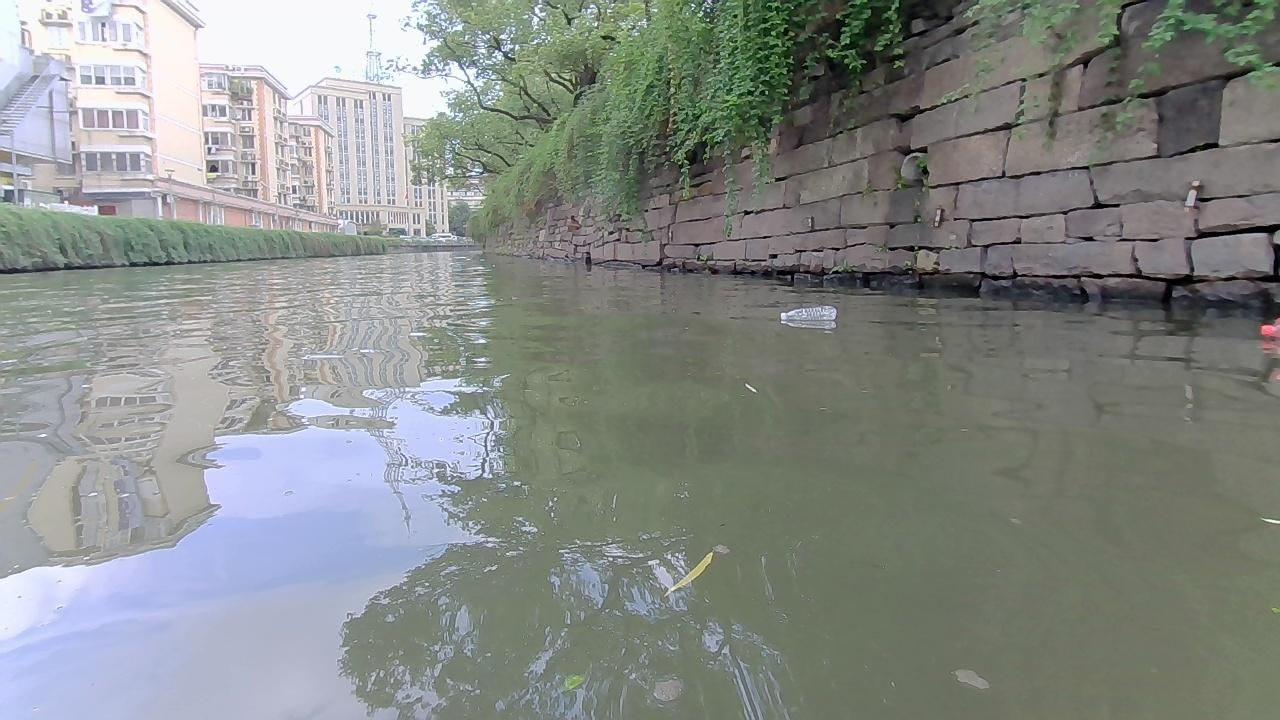bottle: (779, 304, 836, 320), (1259, 314, 1279, 337)
